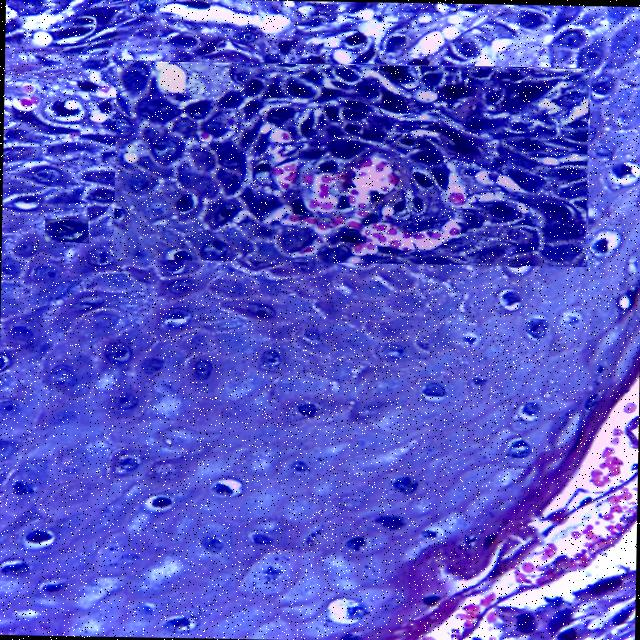Multiple Nucleol: (45, 218, 89, 242)
Nuclear Hyperchromatism: (116, 61, 587, 264)
